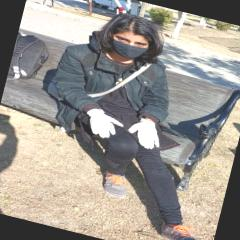gloved: (82, 108, 126, 142), (127, 116, 165, 153)
